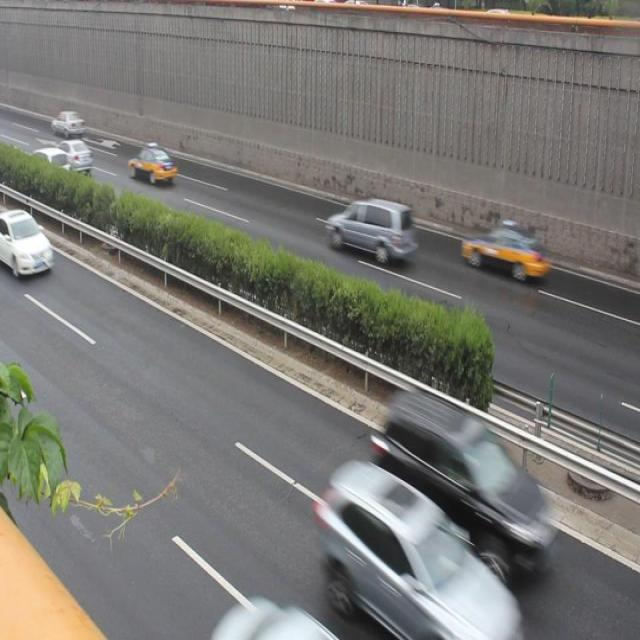car: (317, 461, 507, 640), (376, 392, 554, 575), (461, 222, 546, 282), (1, 209, 54, 280), (127, 145, 177, 186), (27, 150, 71, 190), (51, 141, 94, 177)
truck: (326, 198, 416, 267)
